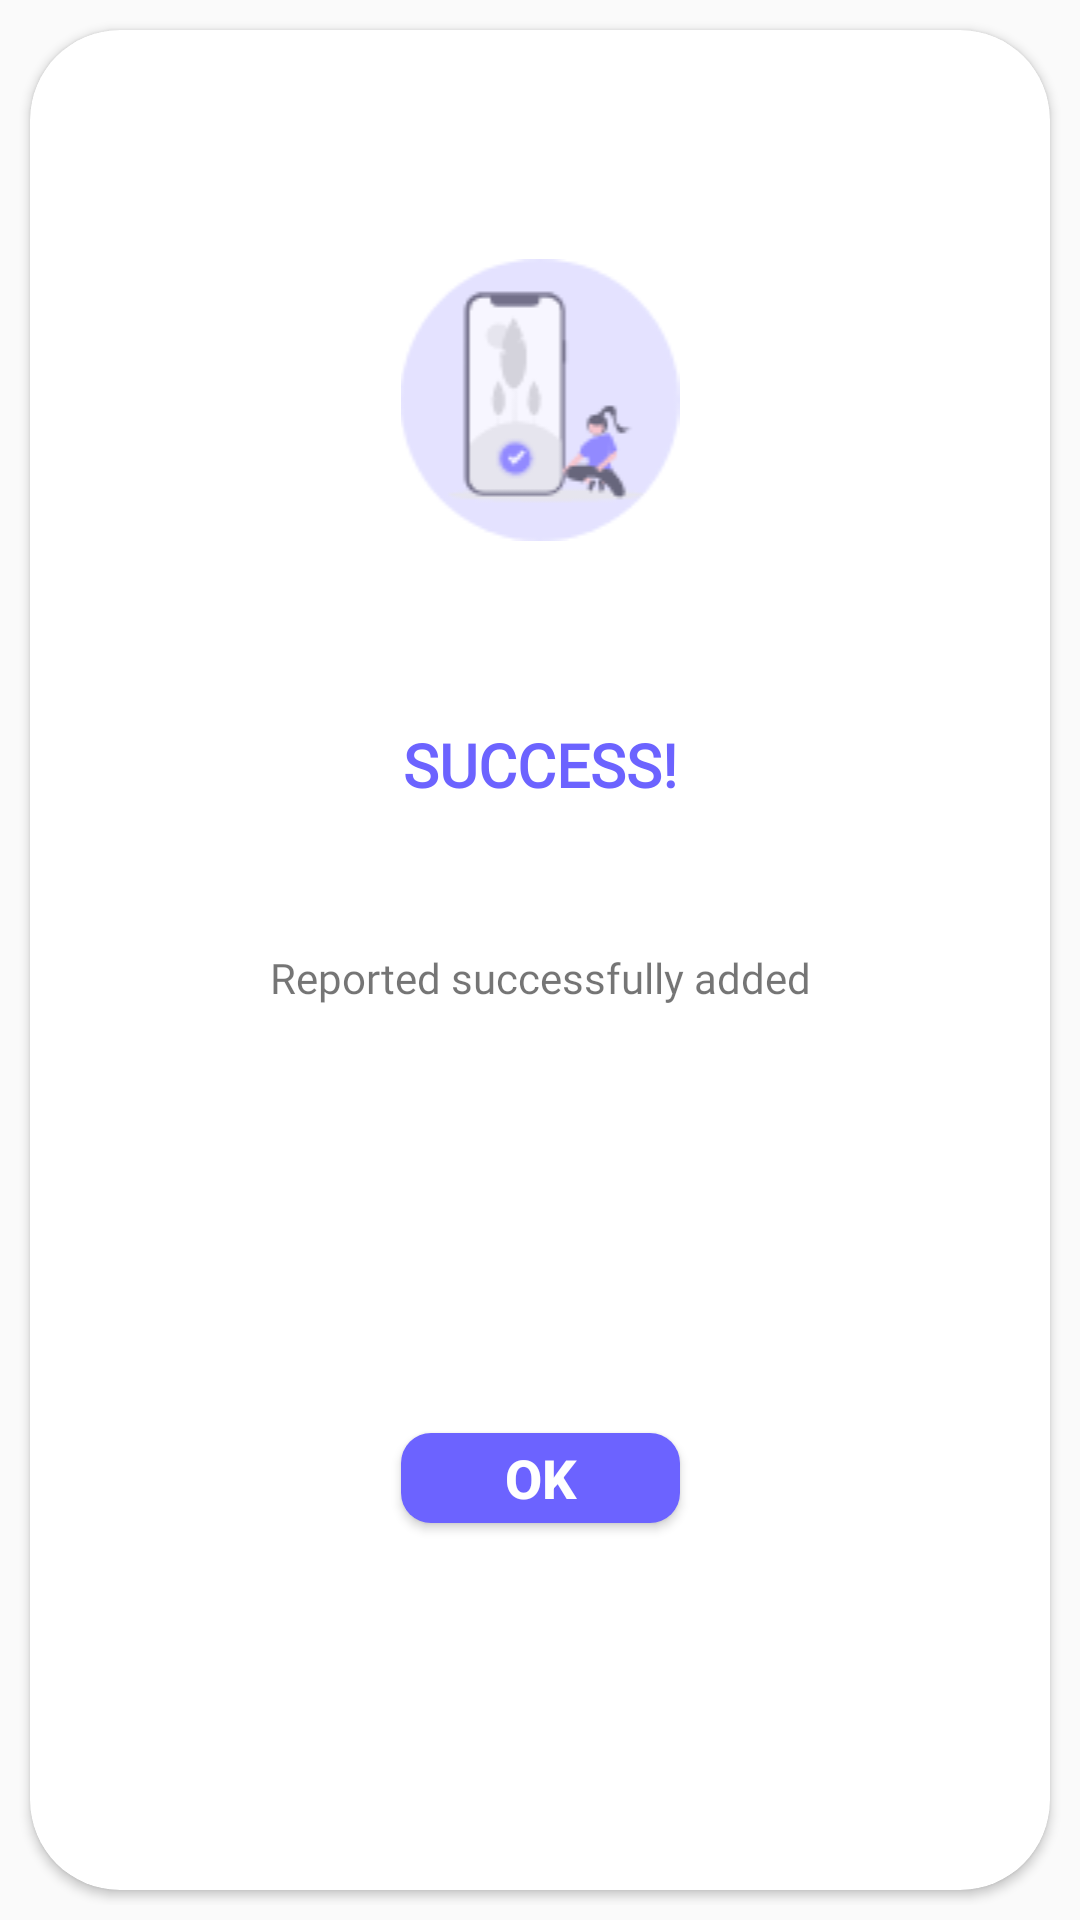

Icons on this 1080×1920 Android screen, each with its box as [left=x1, top=y1, right=x2, bottom=y2]:
success: [left=401, top=259, right=680, bottom=541]
